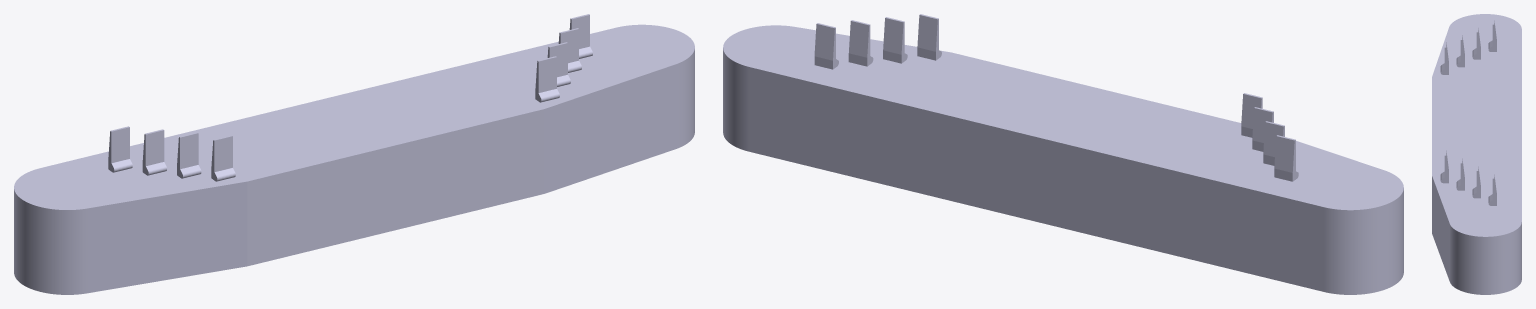
File: CRAWLER_LEFT.obj
The picture shows the model from 3 angles, left to right: view 1: azimuth 30°, elevation 25°; view 2: azimuth 150°, elevation 25°; view 3: azimuth 270°, elevation 25°; orthographic projection. The views are drawn at different scales.
Visible parts, largest first — view 1: SCX1200-3_CRAWLER_000_1-HSC_SCX1200-3_CRAWLER001 (Meshed), SCX1200-3_CRAWLER_000_1-HSC_SCX1200-3_CRAWLER004 (Meshed), SCX1200-3_CRAWLER_000_1-HSC_SCX1200-3_CRAWLER012 (Meshed), SCX1200-3_CRAWLER_000_1-HSC_SCX1200-3_CRAWLER002 (Meshed), SCX1200-3_CRAWLER_000_1-HSC_SCX1200-3_CRAWLER (Meshed), SCX1200-3_CRAWLER_000_1-HSC_SCX1200-3_CRAWLER010 (Meshed), SCX1200-3_CRAWLER_000_1-HSC_SCX1200-3_CRAWLER007 (Meshed), SCX1200-3_CRAWLER_000_1-HSC_SCX1200-3_CRAWLER017 (Meshed), SCX1200-3_CRAWLER_000_1-HSC_SCX1200-3_CRAWLER014 (Meshed); view 2: SCX1200-3_CRAWLER_000_1-HSC_SCX1200-3_CRAWLER001 (Meshed), SCX1200-3_CRAWLER_000_1-HSC_SCX1200-3_CRAWLER017 (Meshed), SCX1200-3_CRAWLER_000_1-HSC_SCX1200-3_CRAWLER007 (Meshed), SCX1200-3_CRAWLER_000_1-HSC_SCX1200-3_CRAWLER (Meshed), SCX1200-3_CRAWLER_000_1-HSC_SCX1200-3_CRAWLER010 (Meshed), SCX1200-3_CRAWLER_000_1-HSC_SCX1200-3_CRAWLER014 (Meshed), SCX1200-3_CRAWLER_000_1-HSC_SCX1200-3_CRAWLER012 (Meshed), SCX1200-3_CRAWLER_000_1-HSC_SCX1200-3_CRAWLER002 (Meshed), SCX1200-3_CRAWLER_000_1-HSC_SCX1200-3_CRAWLER004 (Meshed); view 3: SCX1200-3_CRAWLER_000_1-HSC_SCX1200-3_CRAWLER001 (Meshed), SCX1200-3_CRAWLER_000_1-HSC_SCX1200-3_CRAWLER010 (Meshed), SCX1200-3_CRAWLER_000_1-HSC_SCX1200-3_CRAWLER012 (Meshed), SCX1200-3_CRAWLER_000_1-HSC_SCX1200-3_CRAWLER002 (Meshed), SCX1200-3_CRAWLER_000_1-HSC_SCX1200-3_CRAWLER017 (Meshed), SCX1200-3_CRAWLER_000_1-HSC_SCX1200-3_CRAWLER004 (Meshed), SCX1200-3_CRAWLER_000_1-HSC_SCX1200-3_CRAWLER007 (Meshed), SCX1200-3_CRAWLER_000_1-HSC_SCX1200-3_CRAWLER014 (Meshed), SCX1200-3_CRAWLER_000_1-HSC_SCX1200-3_CRAWLER (Meshed).
Part boxes in pixels (left/top/right/bottom): SCX1200-3_CRAWLER_000_1-HSC_SCX1200-3_CRAWLER001 (Meshed): left=14, top=24, right=694, bottom=294; SCX1200-3_CRAWLER_000_1-HSC_SCX1200-3_CRAWLER004 (Meshed): left=142, top=129, right=166, bottom=175; SCX1200-3_CRAWLER_000_1-HSC_SCX1200-3_CRAWLER012 (Meshed): left=177, top=132, right=201, bottom=178; SCX1200-3_CRAWLER_000_1-HSC_SCX1200-3_CRAWLER002 (Meshed): left=211, top=135, right=235, bottom=181; SCX1200-3_CRAWLER_000_1-HSC_SCX1200-3_CRAWLER (Meshed): left=108, top=126, right=132, bottom=172; SCX1200-3_CRAWLER_000_1-HSC_SCX1200-3_CRAWLER010 (Meshed): left=535, top=56, right=559, bottom=102; SCX1200-3_CRAWLER_000_1-HSC_SCX1200-3_CRAWLER007 (Meshed): left=547, top=42, right=570, bottom=86; SCX1200-3_CRAWLER_000_1-HSC_SCX1200-3_CRAWLER017 (Meshed): left=558, top=28, right=581, bottom=72; SCX1200-3_CRAWLER_000_1-HSC_SCX1200-3_CRAWLER014 (Meshed): left=569, top=14, right=592, bottom=58; SCX1200-3_CRAWLER_000_1-HSC_SCX1200-3_CRAWLER001 (Meshed): left=723, top=25, right=1403, bottom=294; SCX1200-3_CRAWLER_000_1-HSC_SCX1200-3_CRAWLER017 (Meshed): left=848, top=20, right=873, bottom=66; SCX1200-3_CRAWLER_000_1-HSC_SCX1200-3_CRAWLER007 (Meshed): left=883, top=17, right=907, bottom=63; SCX1200-3_CRAWLER_000_1-HSC_SCX1200-3_CRAWLER (Meshed): left=1274, top=135, right=1298, bottom=181; SCX1200-3_CRAWLER_000_1-HSC_SCX1200-3_CRAWLER010 (Meshed): left=917, top=14, right=941, bottom=60; SCX1200-3_CRAWLER_000_1-HSC_SCX1200-3_CRAWLER014 (Meshed): left=814, top=23, right=838, bottom=69; SCX1200-3_CRAWLER_000_1-HSC_SCX1200-3_CRAWLER012 (Meshed): left=1252, top=107, right=1273, bottom=151; SCX1200-3_CRAWLER_000_1-HSC_SCX1200-3_CRAWLER002 (Meshed): left=1241, top=93, right=1262, bottom=137; SCX1200-3_CRAWLER_000_1-HSC_SCX1200-3_CRAWLER004 (Meshed): left=1263, top=121, right=1284, bottom=165; SCX1200-3_CRAWLER_000_1-HSC_SCX1200-3_CRAWLER001 (Meshed): left=1432, top=14, right=1521, bottom=294; SCX1200-3_CRAWLER_000_1-HSC_SCX1200-3_CRAWLER010 (Meshed): left=1440, top=149, right=1448, bottom=183; SCX1200-3_CRAWLER_000_1-HSC_SCX1200-3_CRAWLER012 (Meshed): left=1456, top=33, right=1464, bottom=67; SCX1200-3_CRAWLER_000_1-HSC_SCX1200-3_CRAWLER002 (Meshed): left=1440, top=41, right=1448, bottom=74; SCX1200-3_CRAWLER_000_1-HSC_SCX1200-3_CRAWLER017 (Meshed): left=1472, top=164, right=1480, bottom=198; SCX1200-3_CRAWLER_000_1-HSC_SCX1200-3_CRAWLER004 (Meshed): left=1472, top=26, right=1480, bottom=59; SCX1200-3_CRAWLER_000_1-HSC_SCX1200-3_CRAWLER007 (Meshed): left=1456, top=157, right=1464, bottom=190; SCX1200-3_CRAWLER_000_1-HSC_SCX1200-3_CRAWLER014 (Meshed): left=1488, top=172, right=1496, bottom=205; SCX1200-3_CRAWLER_000_1-HSC_SCX1200-3_CRAWLER (Meshed): left=1488, top=18, right=1496, bottom=51.
Bounding box in the file's own units: 7935 × 1419 × 1350.
